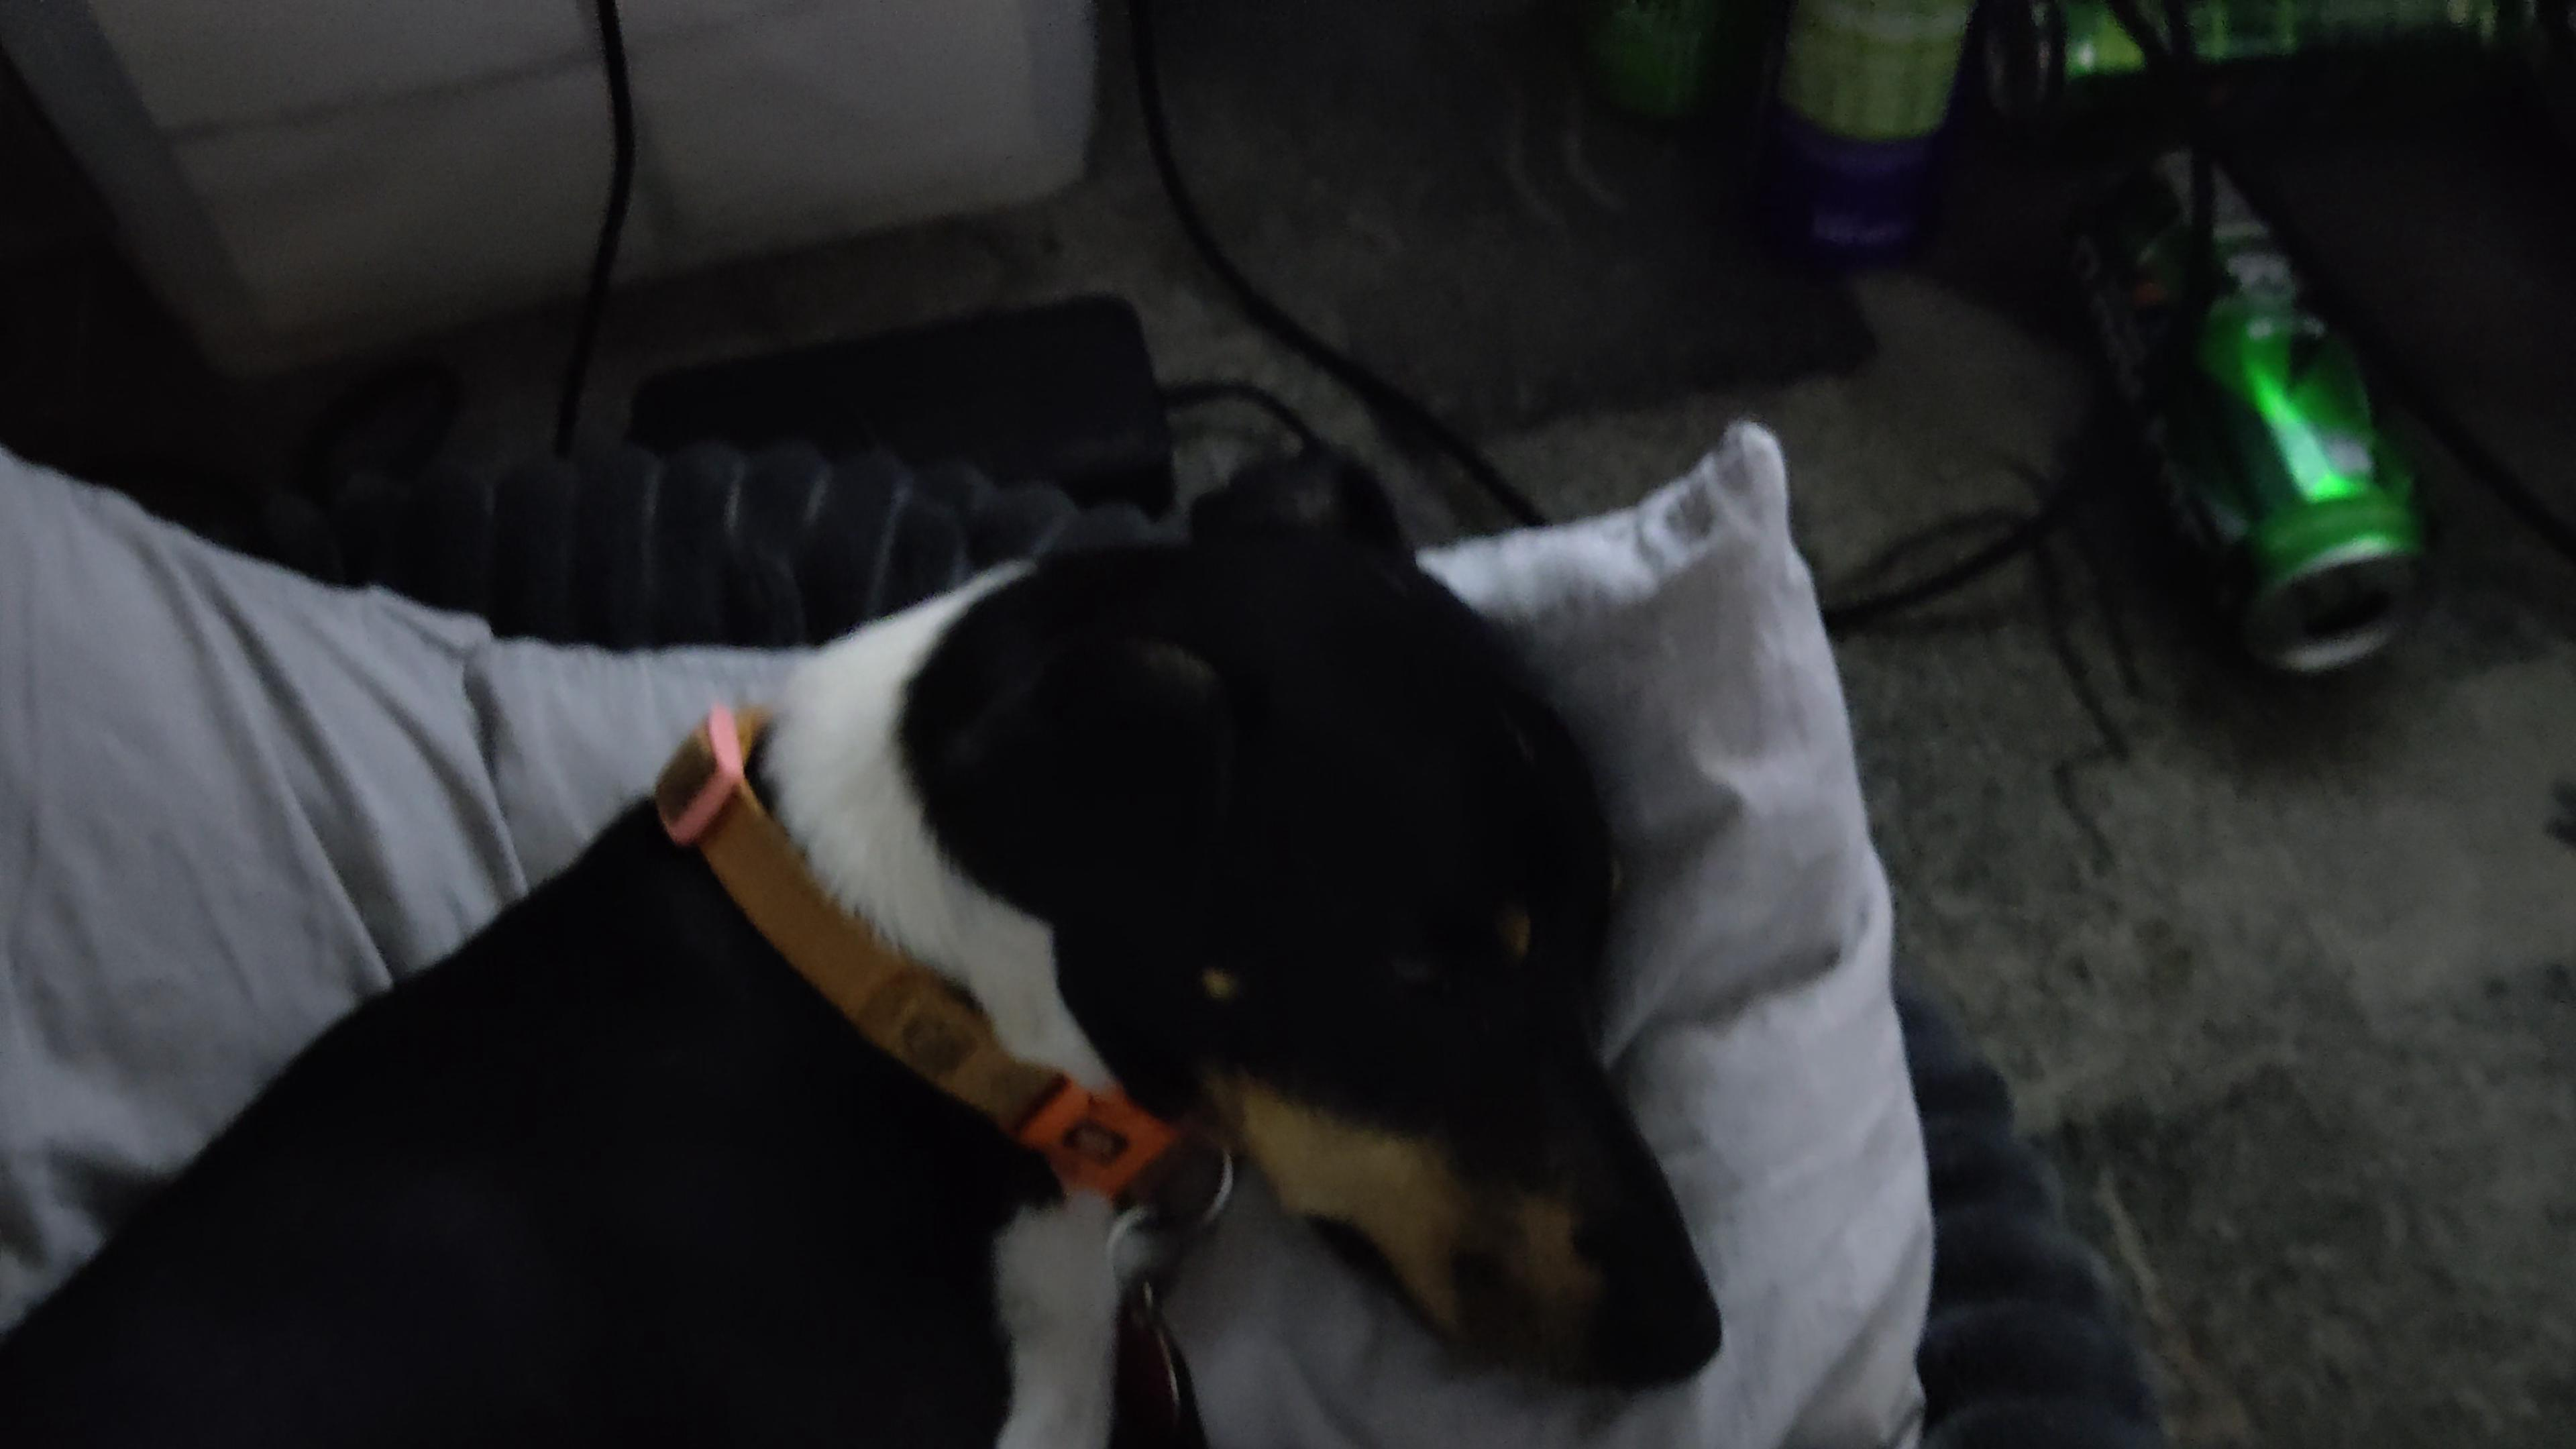Dog: (0, 409, 1767, 1449)
